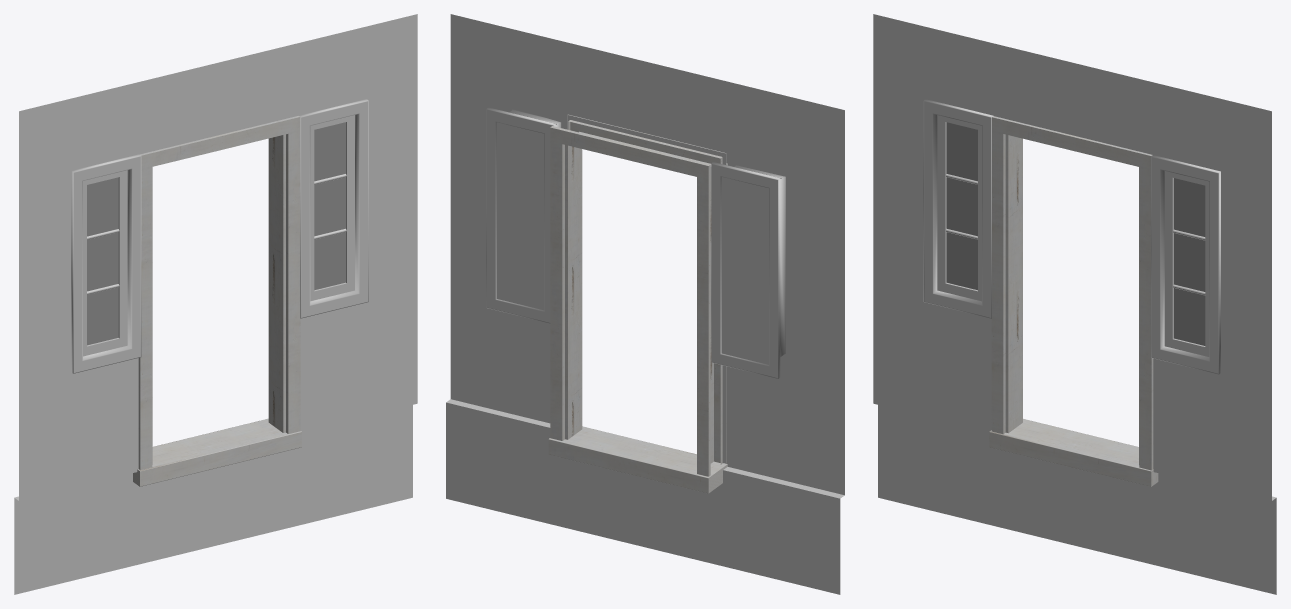
The model's file is Wall_Door_Single_B_3x.FBX.
The picture shows the model from 3 angles, left to right: view 1: azimuth 30°, elevation 25°; view 2: azimuth 150°, elevation 25°; view 3: azimuth 330°, elevation 25°; orthographic projection.
Parts seen in each view (by area): view 1: Wall_Door_Single_B_3x; view 2: Wall_Door_Single_B_3x; view 3: Wall_Door_Single_B_3x.
Part boxes in pixels (box(x1,y1,x2,y2)): Wall_Door_Single_B_3x: box(14, 14, 417, 594); Wall_Door_Single_B_3x: box(446, 14, 844, 594); Wall_Door_Single_B_3x: box(873, 14, 1276, 594).
Bounding box in the file's own units: 300 × 350 × 28.33.
